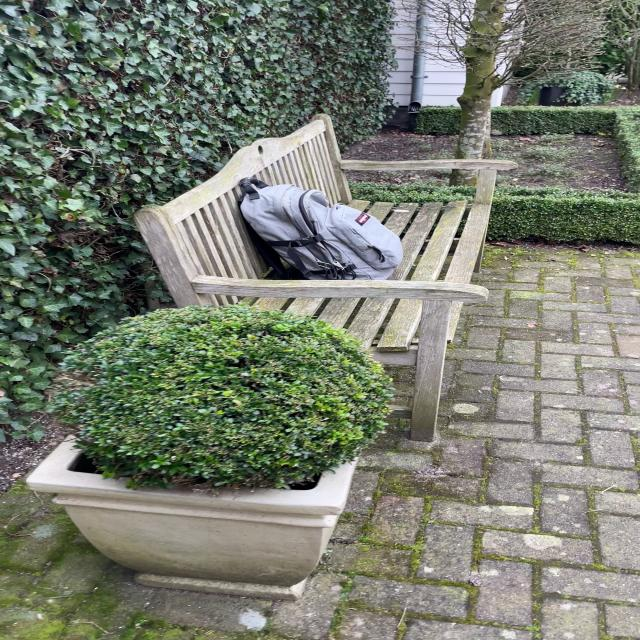backpack: (228, 176, 410, 282)
